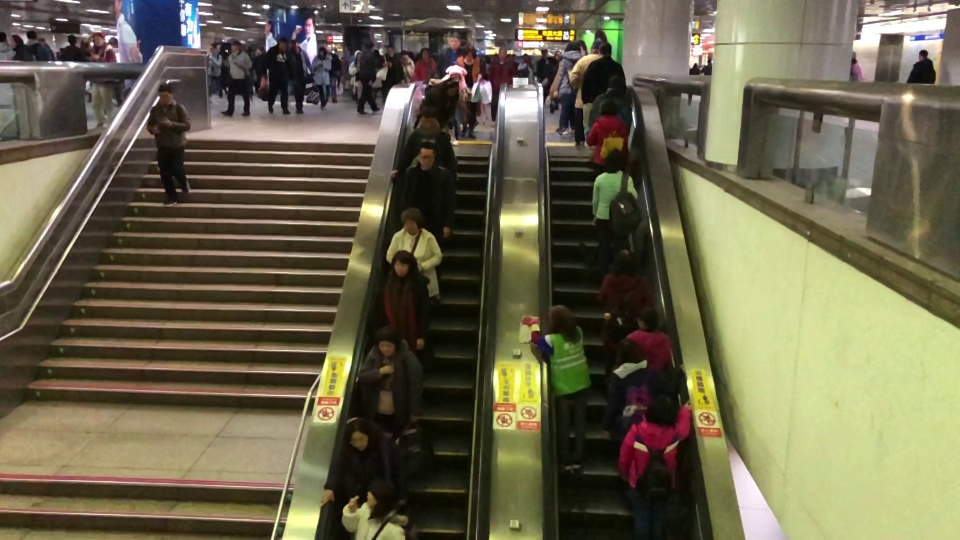person_head: (642, 395, 677, 425), (344, 418, 370, 450), (374, 325, 400, 356), (365, 480, 394, 506), (611, 248, 638, 275), (548, 303, 574, 331), (614, 339, 643, 364), (390, 249, 415, 277), (633, 305, 659, 331), (399, 206, 423, 232), (413, 141, 436, 168), (417, 107, 440, 132), (603, 148, 624, 172), (599, 98, 619, 116), (606, 72, 624, 90), (157, 83, 173, 103), (444, 77, 459, 97), (446, 32, 461, 48), (463, 45, 476, 62), (598, 41, 612, 56), (590, 38, 602, 53), (565, 41, 582, 51), (448, 68, 461, 81), (93, 31, 105, 45), (66, 34, 78, 46), (918, 48, 929, 60), (498, 46, 507, 59), (11, 34, 21, 45), (230, 40, 240, 51), (362, 39, 373, 49), (318, 45, 327, 57), (421, 46, 430, 58), (26, 28, 36, 38), (278, 38, 287, 49), (385, 45, 394, 54), (0, 31, 7, 41), (852, 48, 857, 62), (522, 54, 530, 62), (210, 44, 217, 52), (354, 50, 361, 57), (706, 57, 712, 64), (292, 39, 297, 47), (694, 62, 697, 68)
person_vbox: (519, 302, 592, 473), (618, 394, 692, 540), (603, 339, 688, 446), (315, 416, 409, 508), (597, 247, 656, 389), (358, 325, 425, 434), (591, 148, 642, 280), (371, 249, 430, 351), (395, 141, 455, 239), (384, 205, 444, 300), (146, 82, 191, 207), (390, 107, 458, 182), (340, 480, 407, 540), (568, 37, 603, 145), (616, 305, 674, 368), (586, 97, 628, 169), (580, 41, 626, 106), (584, 73, 633, 134), (85, 30, 116, 126), (456, 44, 482, 140), (486, 45, 516, 128), (220, 40, 252, 117), (558, 40, 583, 136), (417, 77, 459, 133), (287, 38, 311, 116), (265, 38, 289, 114), (356, 39, 380, 115), (310, 45, 333, 110), (905, 48, 937, 84), (377, 44, 402, 88), (207, 43, 224, 104), (410, 46, 436, 82), (440, 31, 461, 73), (26, 27, 50, 59), (58, 34, 86, 61), (348, 48, 361, 97), (11, 34, 32, 62), (849, 48, 865, 81), (517, 53, 534, 77), (0, 31, 12, 59), (700, 57, 713, 74), (688, 61, 699, 75)
